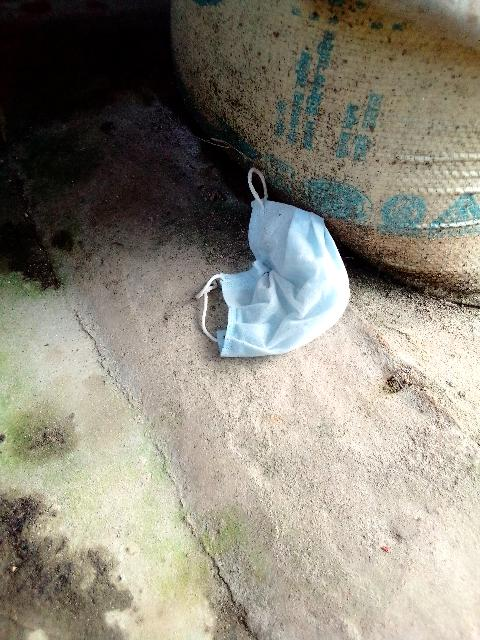mask: (224, 183, 348, 363)
